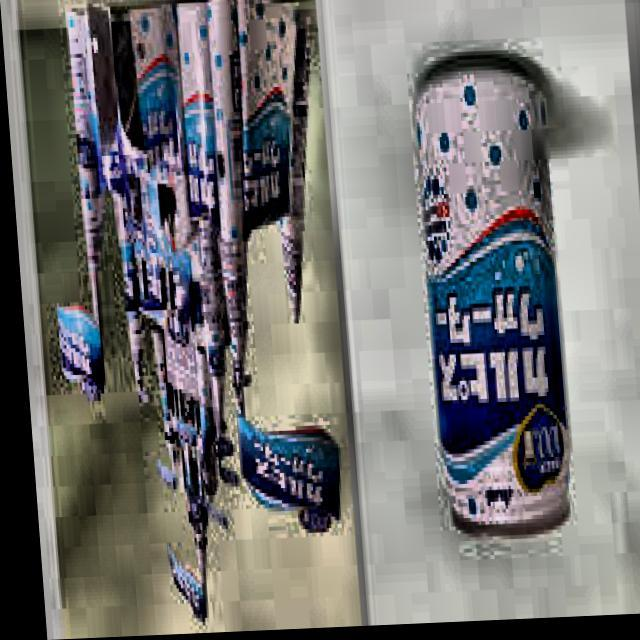litter: (395, 28, 577, 564)
